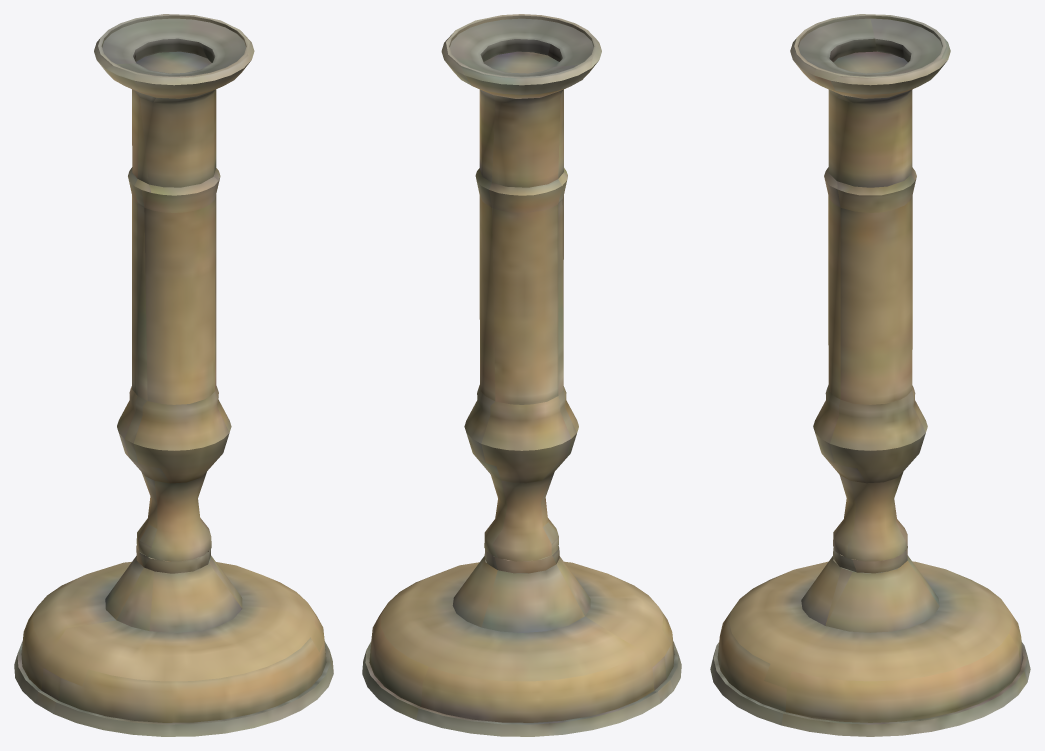
The model's file is candlestick-brass-c.glb.
3 renders of one model, left to right at view 1: azimuth 30°, elevation 25°; view 2: azimuth 150°, elevation 25°; view 3: azimuth 270°, elevation 25°, orthographic.
Parts seen in each view (by area): view 1: candlestick-brass-c; view 2: candlestick-brass-c; view 3: candlestick-brass-c.
Part boxes in pixels (x1,y1,x2,y2): candlestick-brass-c: [14, 14, 333, 736]; candlestick-brass-c: [362, 14, 681, 736]; candlestick-brass-c: [710, 14, 1030, 736].
Bounding box in the file's own units: 0.08 × 0.1717 × 0.08.
Materials: 1 (1 with a texture image).
